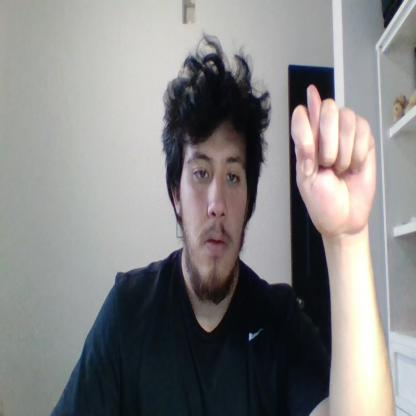T: (290, 84, 378, 232)
